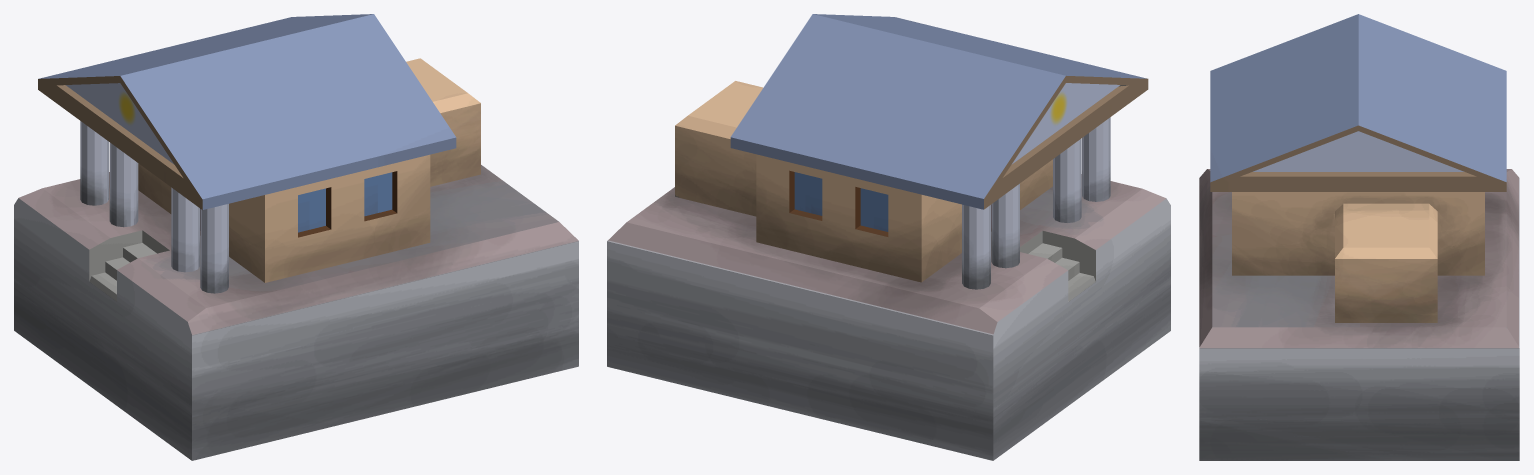
Rendered from Theatre.gltf.
The picture shows the model from 3 angles, left to right: view 1: azimuth 30°, elevation 25°; view 2: azimuth 150°, elevation 25°; view 3: azimuth 270°, elevation 25°; orthographic projection. The views are drawn at different scales.
Parts seen in each view (by area): view 1: Theatre; view 2: Theatre; view 3: Theatre.
Part boxes in pixels (box(x1,y1,x2,y2)): Theatre: box(14, 14, 578, 460); Theatre: box(607, 14, 1170, 460); Theatre: box(1199, 14, 1519, 460).
Size of the model in its own units: 5.39 by 4.21 by 4.29.
1 material, 1 textured.
